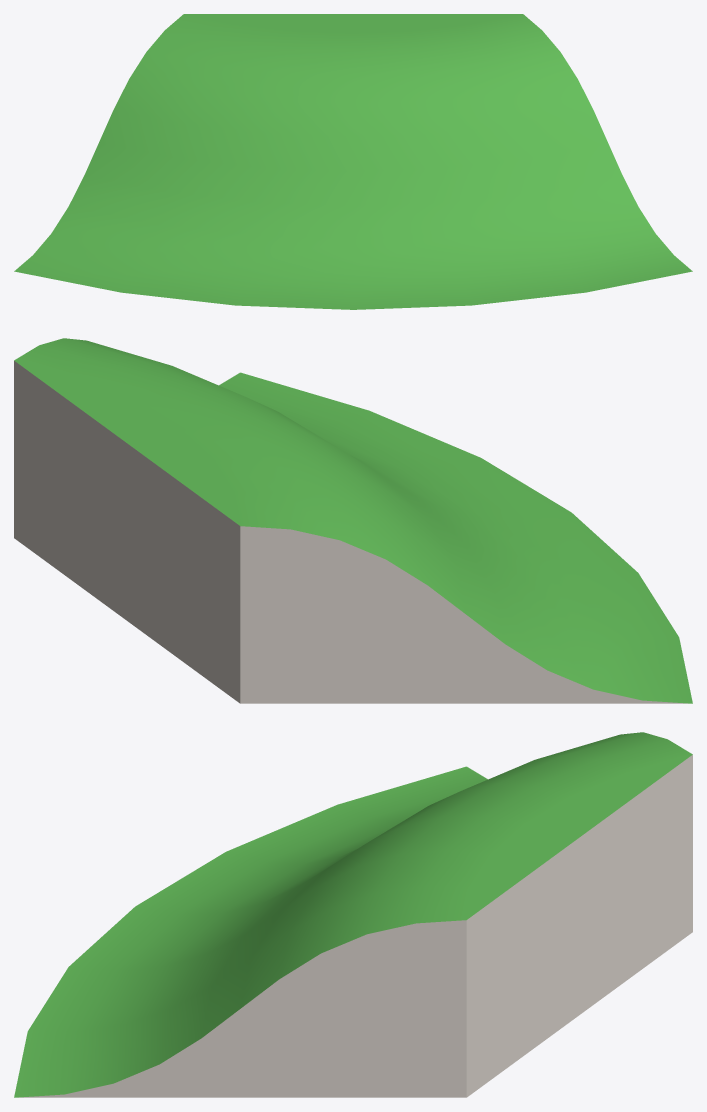
File: Terrain_Grass_Hill_Curve_Outer_Gentle.obj
3 views of the same model, one above another, from view 1: azimuth 30°, elevation 25°; view 2: azimuth 150°, elevation 25°; view 3: azimuth 270°, elevation 25° (orthographic). The views are drawn at different scales.
Parts seen in each view (by area): view 1: object1; view 2: object1; view 3: object1.
Boxes of the visible parts, box(x1,y1,x2,y2) form: object1: box(14, 14, 692, 309); object1: box(14, 338, 692, 703); object1: box(14, 732, 692, 1097).
Size of the model in its own units: 1 by 0.25 by 0.866.
